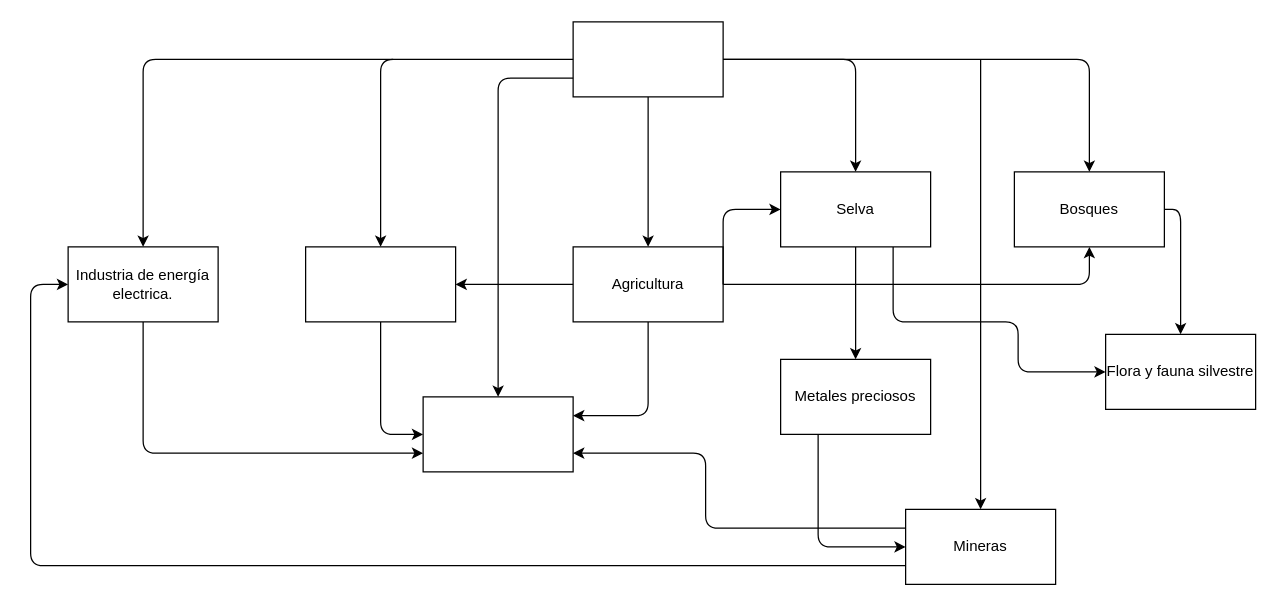
Image size: 1278x606. Some labels were removed from this diagram. The centre of each missing label's shape, as x and y in pixels:
"Agua" goes at (647,59).
"Ganadería" goes at (380,284).
"Población humana" goes at (497,434).
